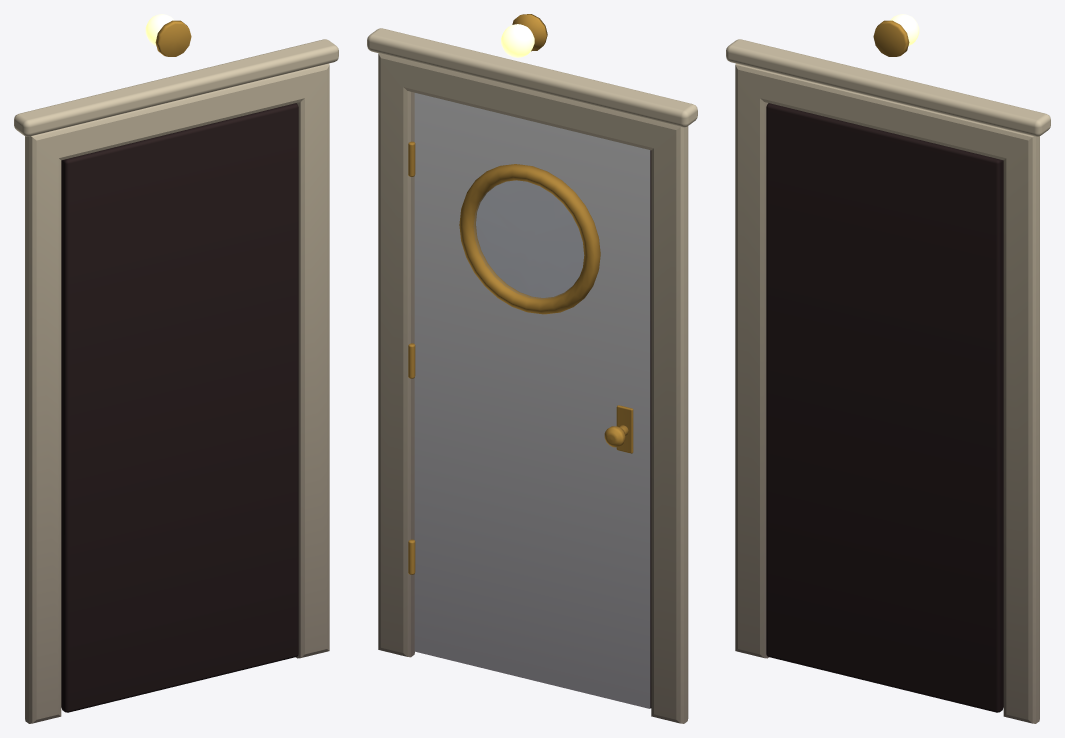
Rendered from dressing_room_door__090.glb.
3 views of the same model, side by side, from view 1: azimuth 30°, elevation 25°; view 2: azimuth 150°, elevation 25°; view 3: azimuth 330°, elevation 25° (orthographic).
Parts seen in each view (by area): view 1: merged_toon_ffffff, merged_toon_C8963C; view 2: prop_dressing_room_door, merged_toon_ffffff, merged_toon_C8963C; view 3: merged_toon_ffffff, merged_toon_C8963C.
Part boxes in pixels (x1,y1,x2,y2): merged_toon_ffffff: (14, 39, 338, 723); merged_toon_C8963C: (155, 20, 191, 56); prop_dressing_room_door: (414, 24, 650, 708); merged_toon_ffffff: (367, 28, 697, 723); merged_toon_C8963C: (408, 14, 633, 574); merged_toon_ffffff: (726, 39, 1050, 723); merged_toon_C8963C: (873, 20, 909, 56).
Size of the model in its own units: 1.2 by 2.4 by 0.1942.
